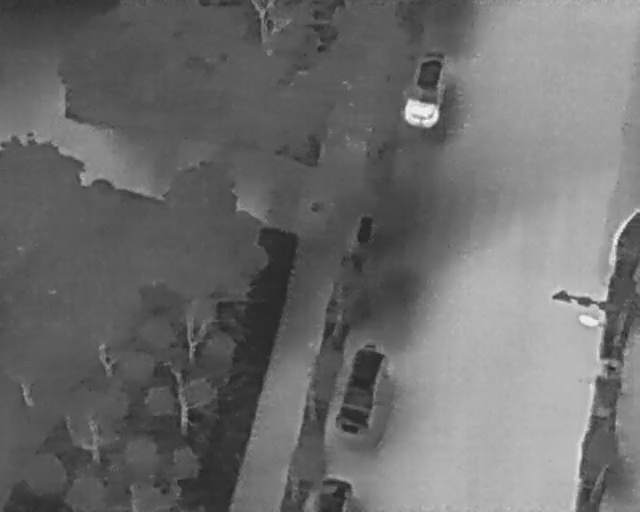Car: (329, 338, 389, 439), (399, 48, 451, 132), (309, 476, 354, 510)
